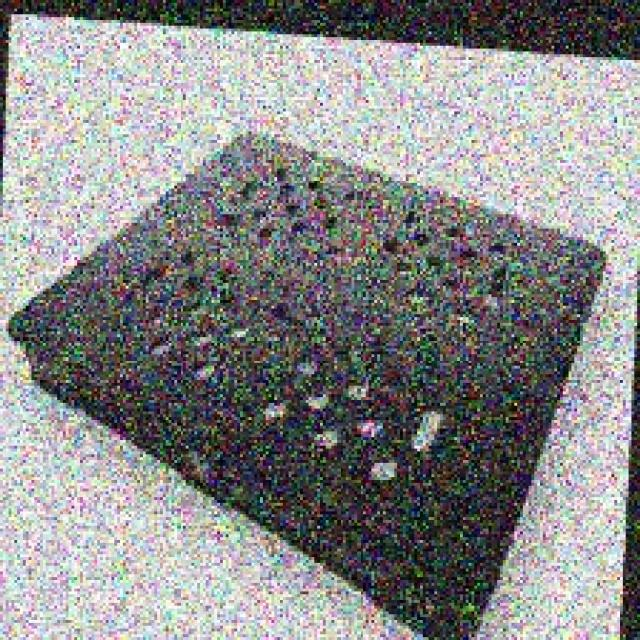igps: (1, 124, 614, 640)
